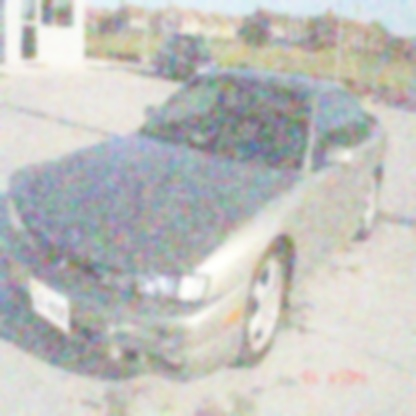Vehicle: (5, 73, 393, 391)
